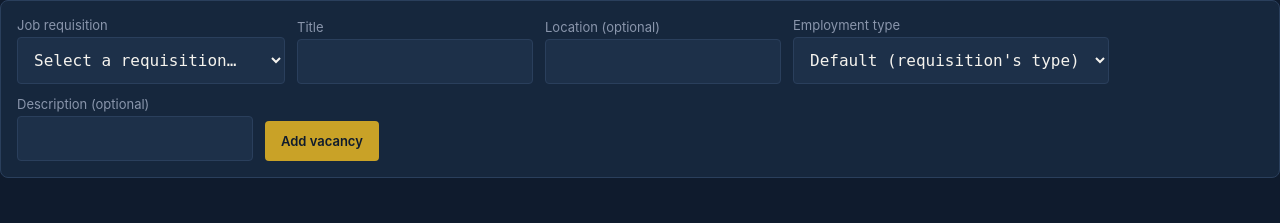
Test: CreateVacancyForm › shows the action-returned error message and does not reset the fields on failure
Select "Senior Backend Engineer" in the dropdown labelled "Job requisition" at (151, 60), box [17,37,285,84]
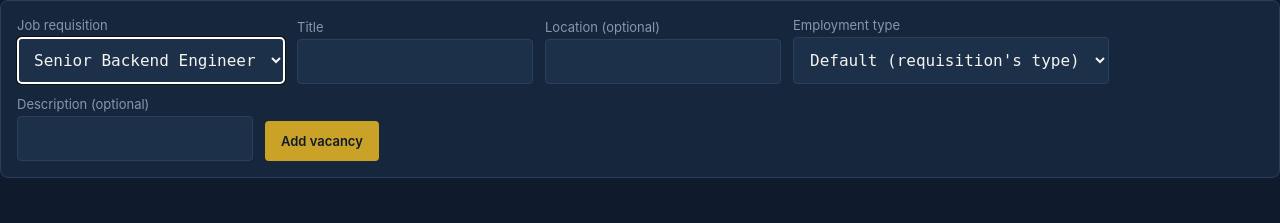
Type "Senior Backend Engineer" into the field labelled "Title" at (415, 62), box [297,39,533,84]
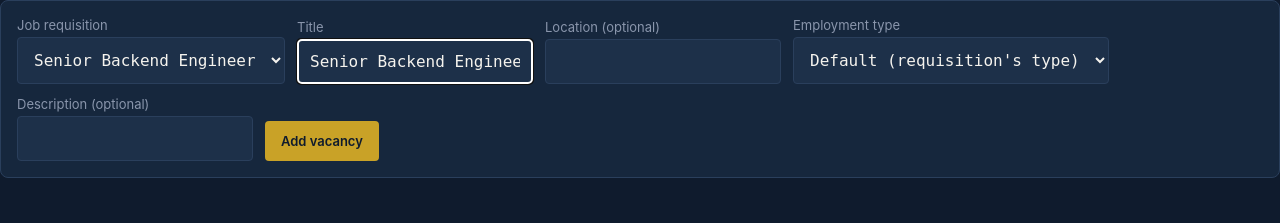
Click the button "Add vacancy" at (322, 141), box [265,121,379,161]
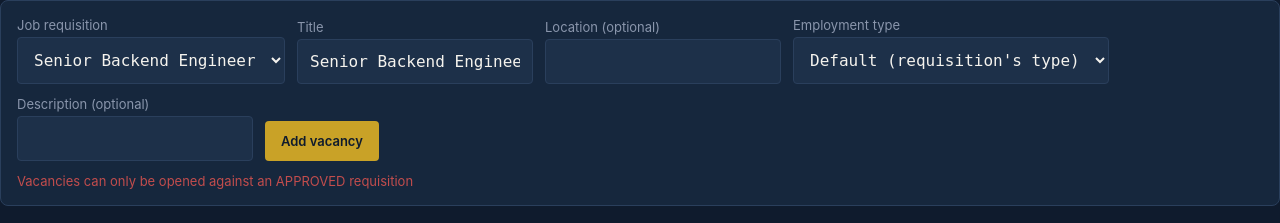
Expected: the text "Vacancies can only be opened against an APPROVED requisition" is shown, [17,173,413,189]
